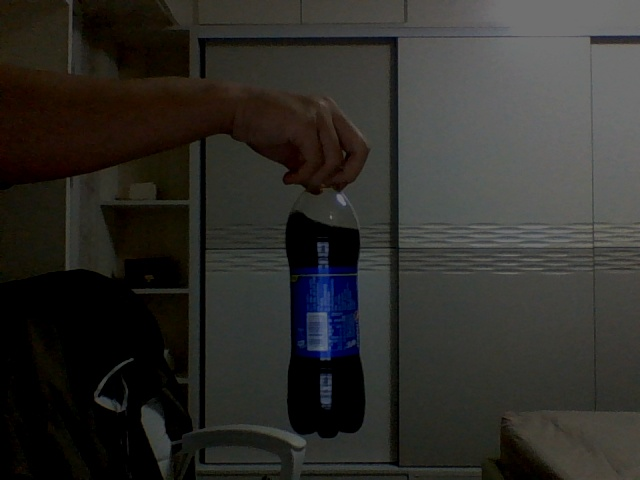Cola: (285, 181, 367, 438)
